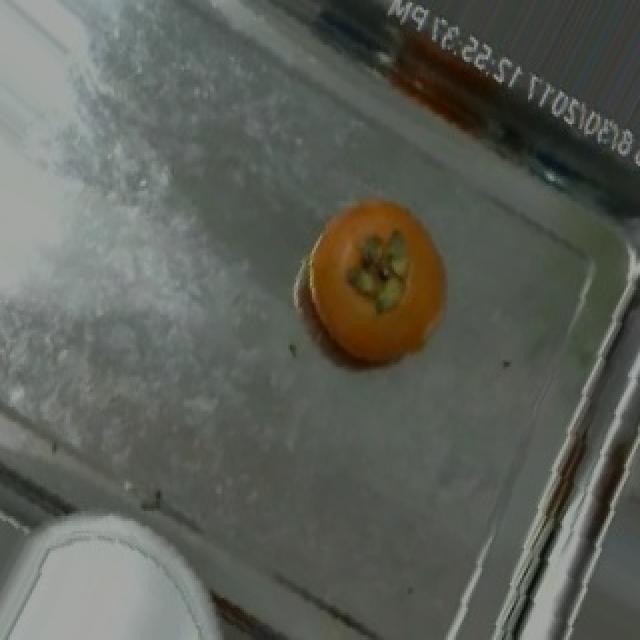Fruit: (284, 181, 470, 382), (0, 508, 222, 640)
